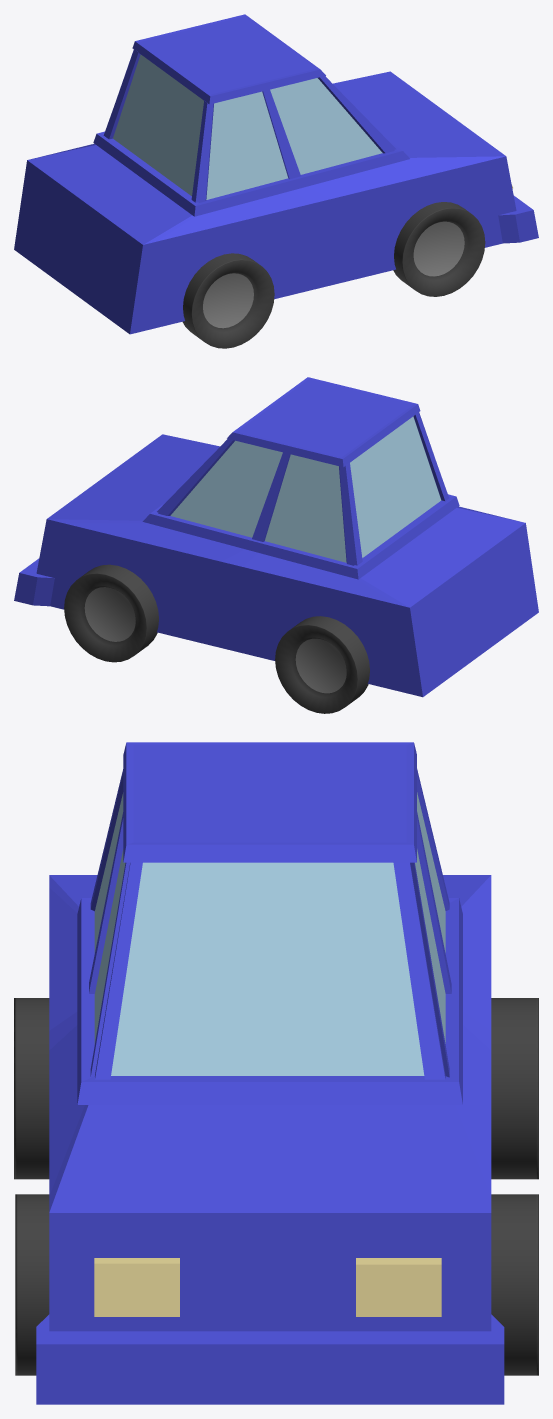
File: car blue.fbx
The picture shows the model from 3 angles, top to bottom: view 1: azimuth 30°, elevation 25°; view 2: azimuth 150°, elevation 25°; view 3: azimuth 270°, elevation 25°; orthographic projection. The views are drawn at different scales.
Parts seen in each view (by area): view 1: Cube.028, Cylinder.022, Cylinder.023; view 2: Cube.028, Cylinder.020, Cylinder.021; view 3: Cube.028, Cylinder.021, Cylinder.020, Cylinder.022, Cylinder.023.
Boxes of the visible parts, left/top/right/bottom form: Cube.028: left=14, top=14, right=538, bottom=334; Cylinder.022: left=182, top=253, right=274, bottom=348; Cylinder.023: left=393, top=202, right=485, bottom=296; Cube.028: left=14, top=377, right=538, bottom=697; Cylinder.020: left=64, top=564, right=158, bottom=662; Cylinder.021: left=275, top=616, right=369, bottom=713; Cube.028: left=36, top=742, right=504, bottom=1404; Cylinder.021: left=491, top=998, right=538, bottom=1179; Cylinder.020: left=491, top=1194, right=538, bottom=1375; Cylinder.022: left=14, top=998, right=49, bottom=1179; Cylinder.023: left=15, top=1194, right=49, bottom=1375.
Size of the model in its own units: 9.83 by 5.28 by 5.78.
